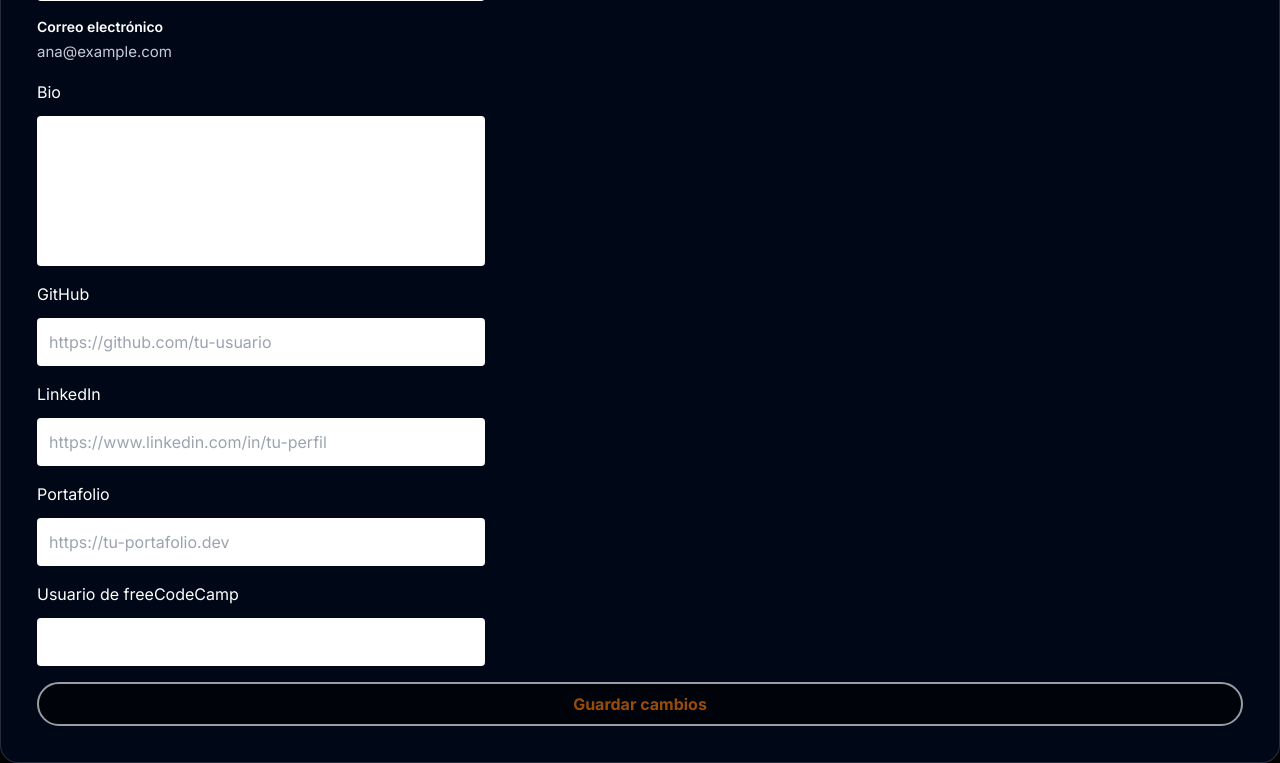
Test: ProfileForm › shows the taken freeCodeCamp username under its field without a toast
(page scrolled)
Type "ana-dev" into the field labelled "Usuario de freeCodeCamp".
click(261, 642); type("ana-dev")  # box [37,618,485,666]
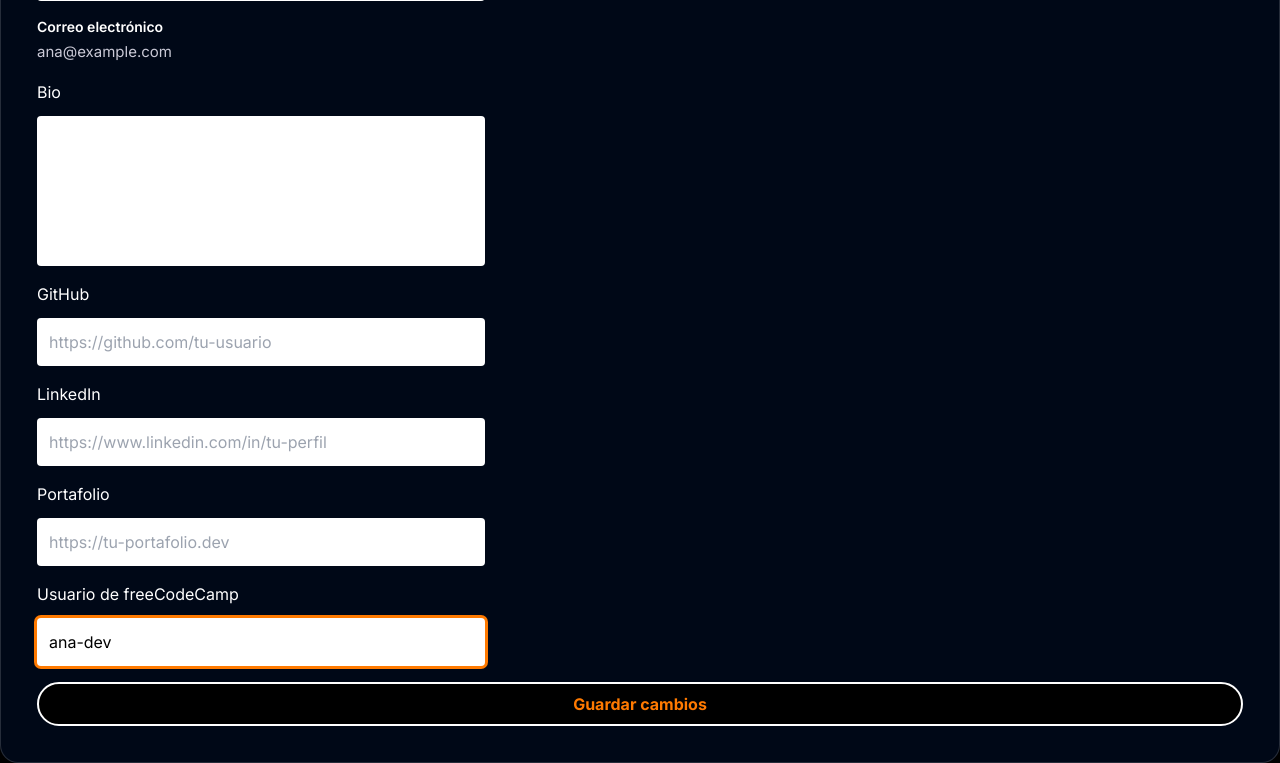
Click the button "Guardar cambios".
click(640, 704)  # box [37,682,1243,726]
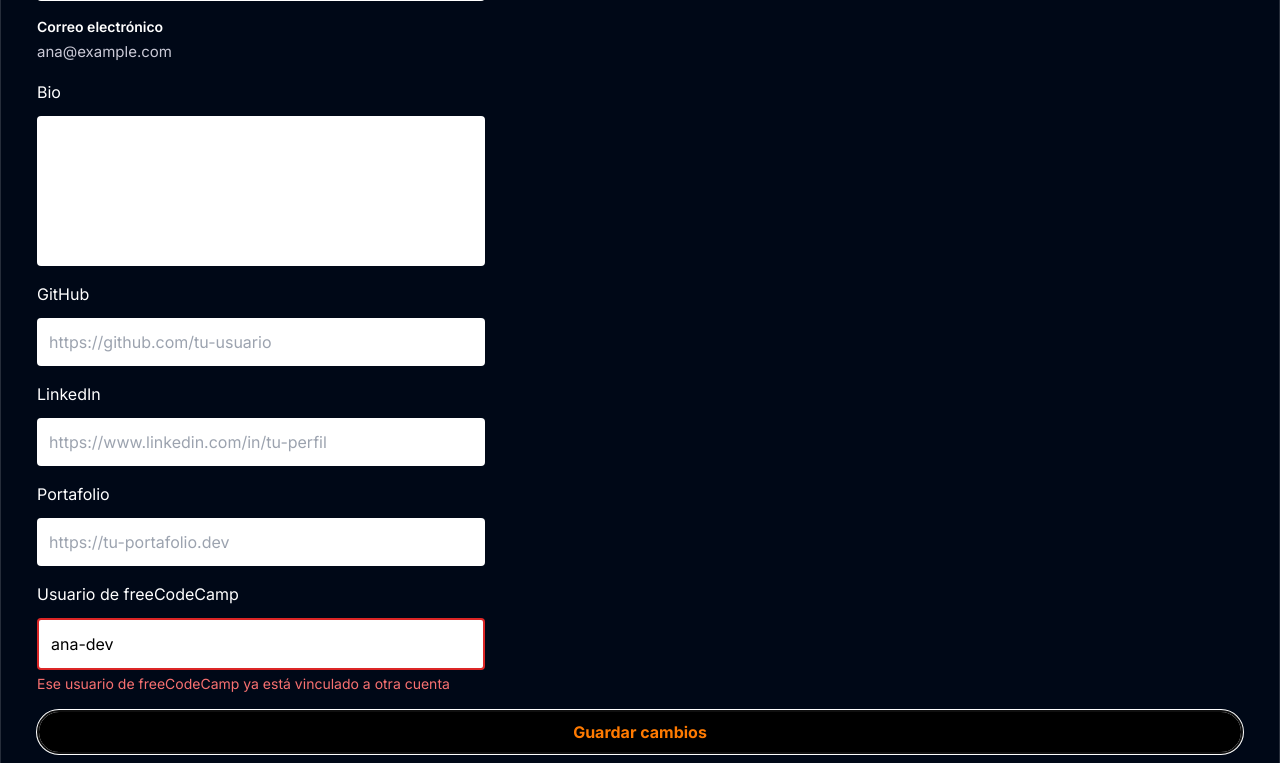
Now the text "Ese usuario de freeCodeCamp ya está vinculado a otra cuenta" is shown, box [37,674,485,694]
